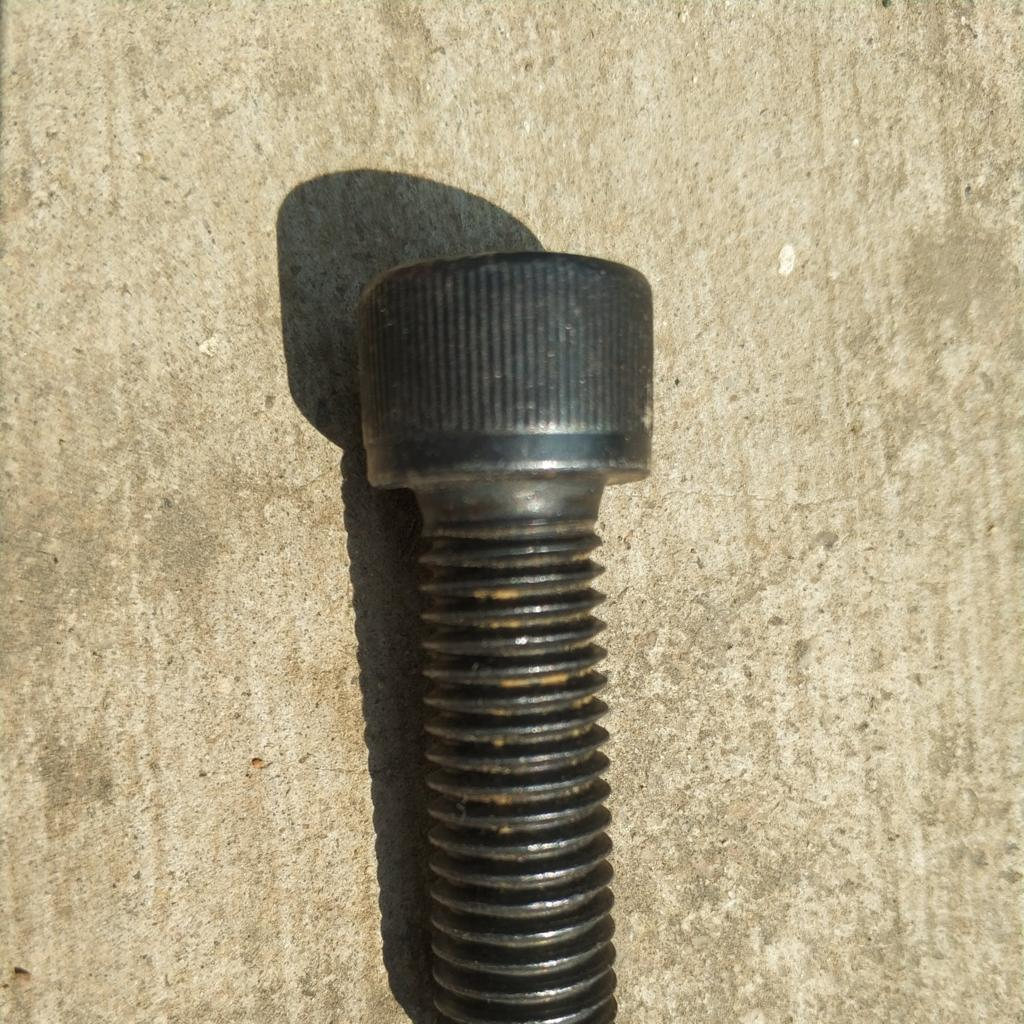screwtype1black: (353, 252, 657, 1024)
